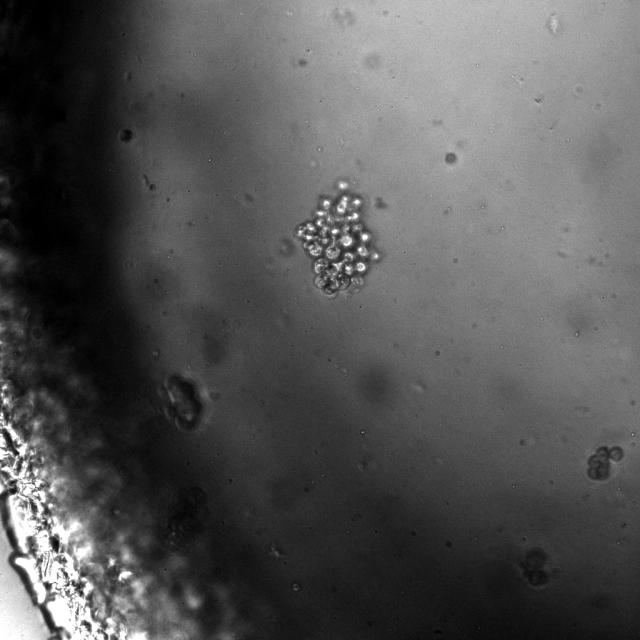organoid: (295, 180, 379, 297), (164, 374, 204, 431), (586, 445, 624, 482), (521, 547, 549, 586), (118, 128, 133, 143), (445, 152, 456, 163)
